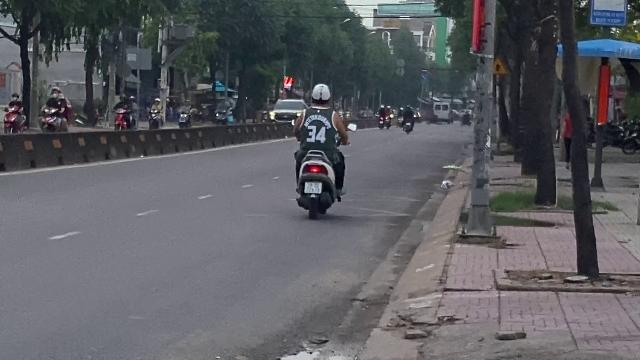helmet: (310, 83, 332, 105)
licenseplate: (304, 183, 322, 194)
motorcyclist: (290, 82, 350, 218)
